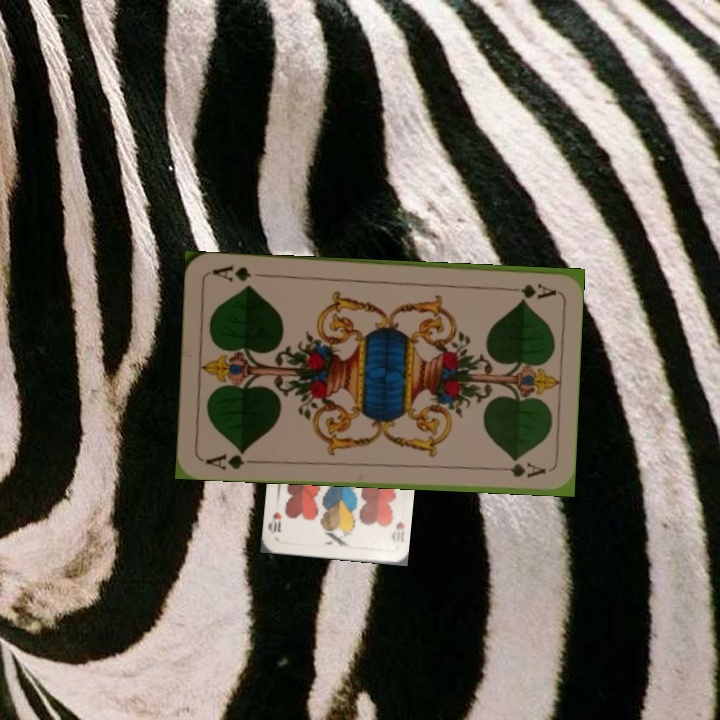GA: (201, 446, 259, 473), (498, 279, 558, 301)
H10: (387, 518, 407, 546)
